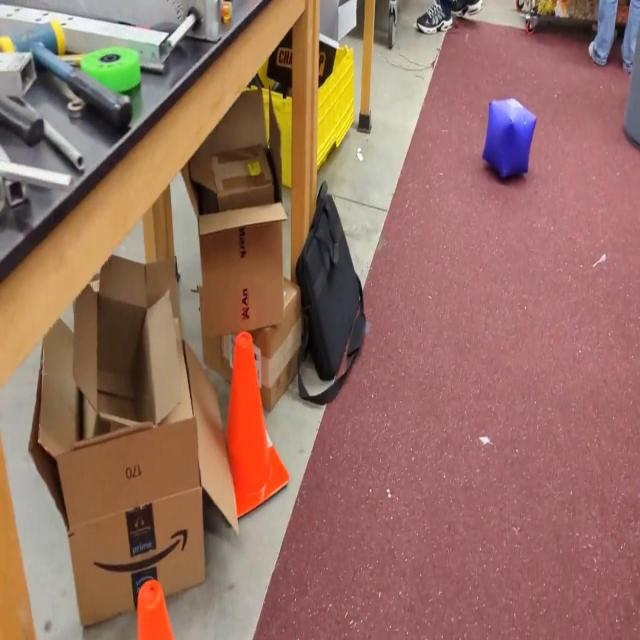frc_cube: (483, 97, 539, 182)
